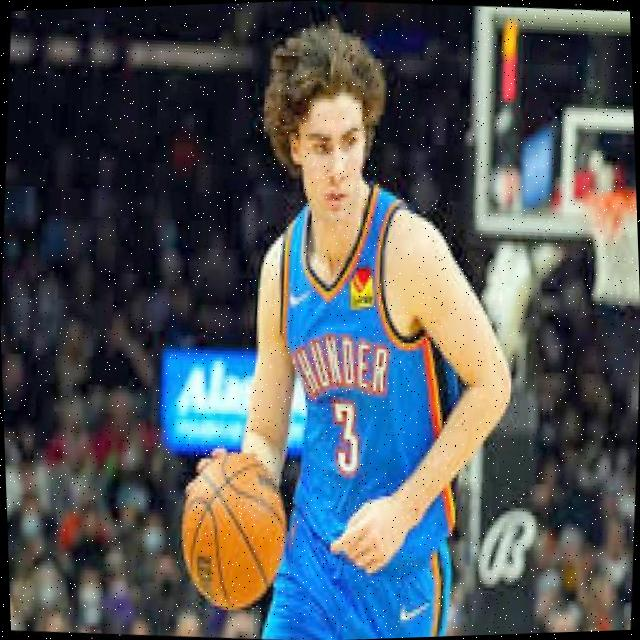ball: (172, 446, 290, 612)
